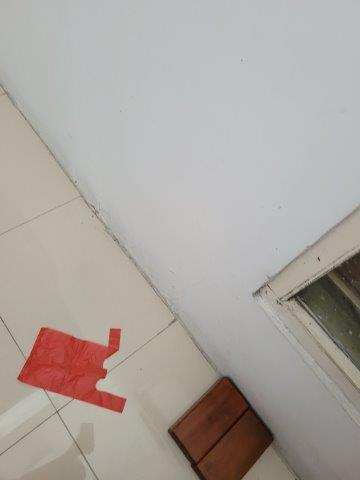plastik: (17, 327, 126, 413)
